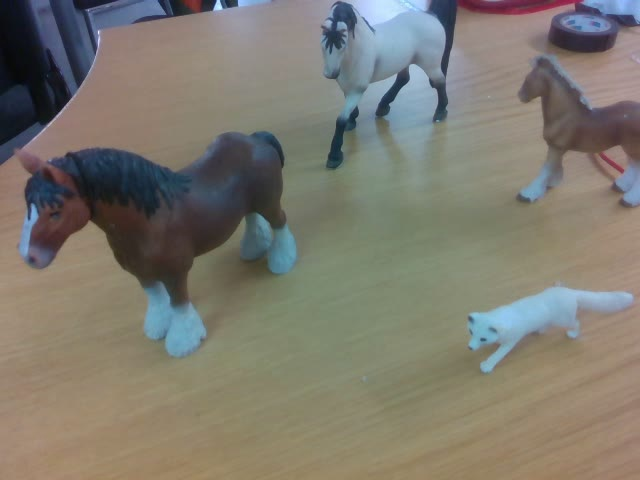toy: (14, 131, 298, 360), (319, 1, 460, 170), (467, 281, 635, 374)
